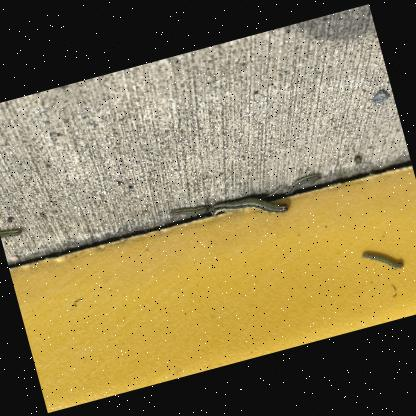Fall Armyworm Larvae: (207, 182, 291, 232), (359, 242, 406, 280), (280, 168, 326, 197), (167, 197, 214, 222), (0, 218, 29, 244)
